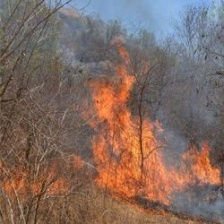fire: (88, 77, 222, 211)
